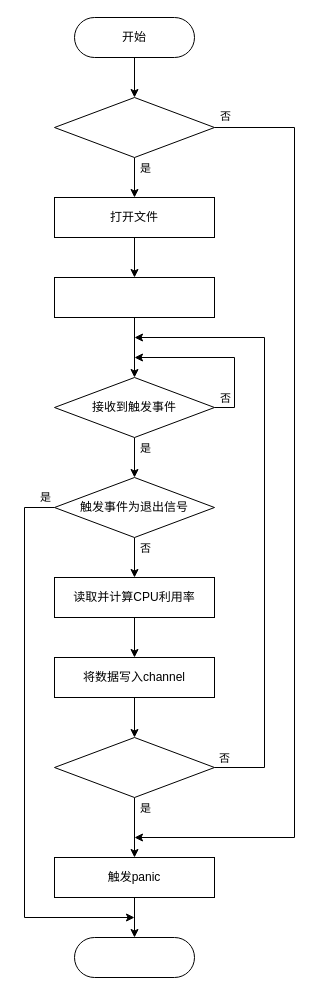
Some shapes in this 320 by 995 pixel diagram are drawn without their labels. Each missing label, with the centre of its shape:
"channel写入超时" belongs at point (134, 767).
"判断文件是否存在" belongs at point (134, 127).
"结束" belongs at point (134, 957).
"设置定时器作为触发事件" belongs at point (134, 297).
